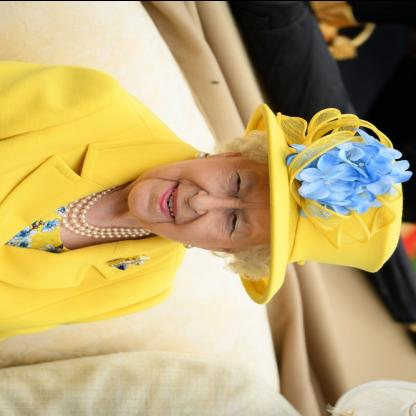hat: (218, 105, 408, 306)
